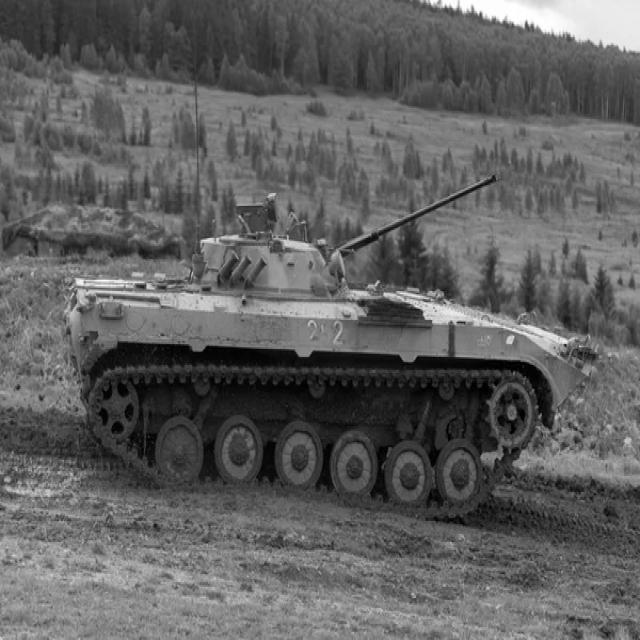Tank: (63, 184, 599, 498)
